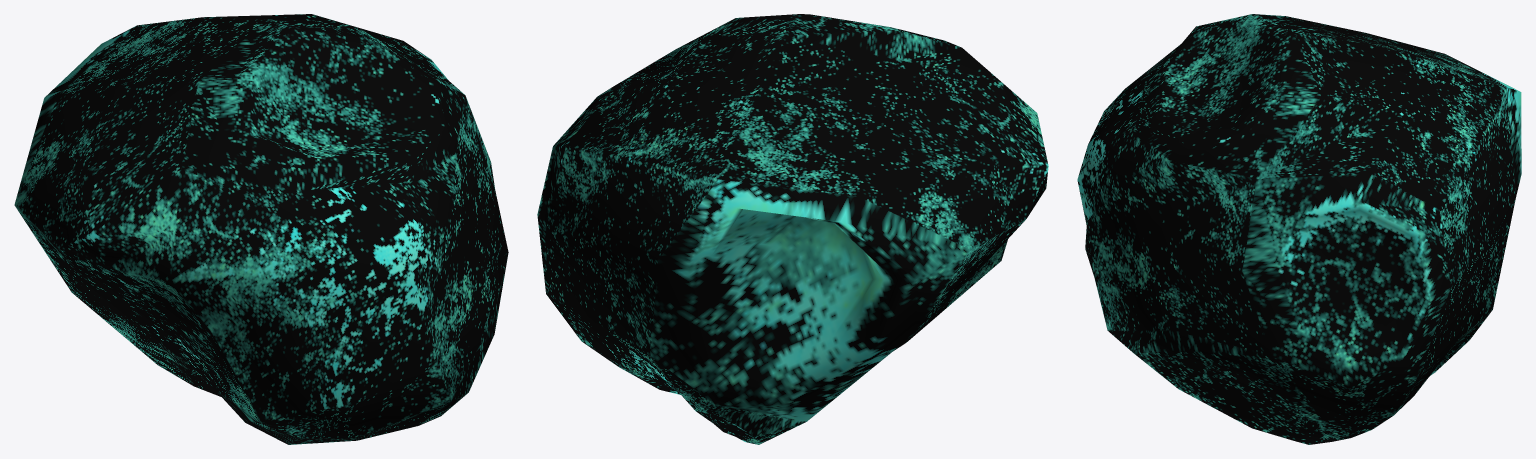
The model's file is Asteroide3.fbx.
3 renders of one model, left to right at view 1: azimuth 30°, elevation 25°; view 2: azimuth 150°, elevation 25°; view 3: azimuth 270°, elevation 25°, orthographic. The views are drawn at different scales.
Parts seen in each view (by area): view 1: asteroide5; view 2: asteroide5; view 3: asteroide5.
Boxes of the visible parts, box(x1,y1,x2,y2) form: asteroide5: box(14, 14, 508, 444); asteroide5: box(537, 14, 1048, 444); asteroide5: box(1077, 14, 1521, 444).
Bounding box in the file's own units: 434 × 382 × 423.
